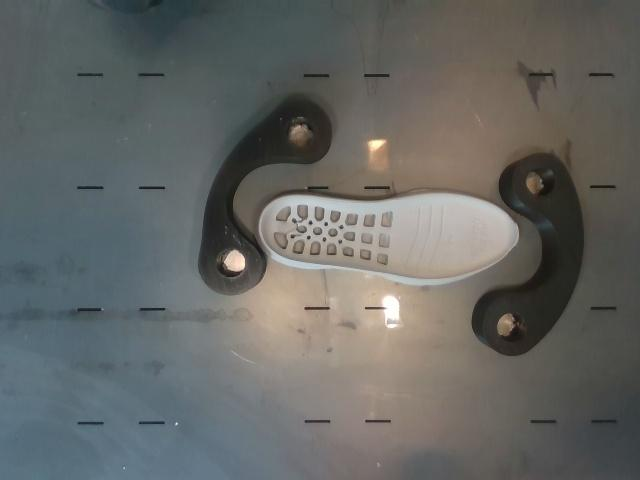shoes: (260, 194, 519, 280)
